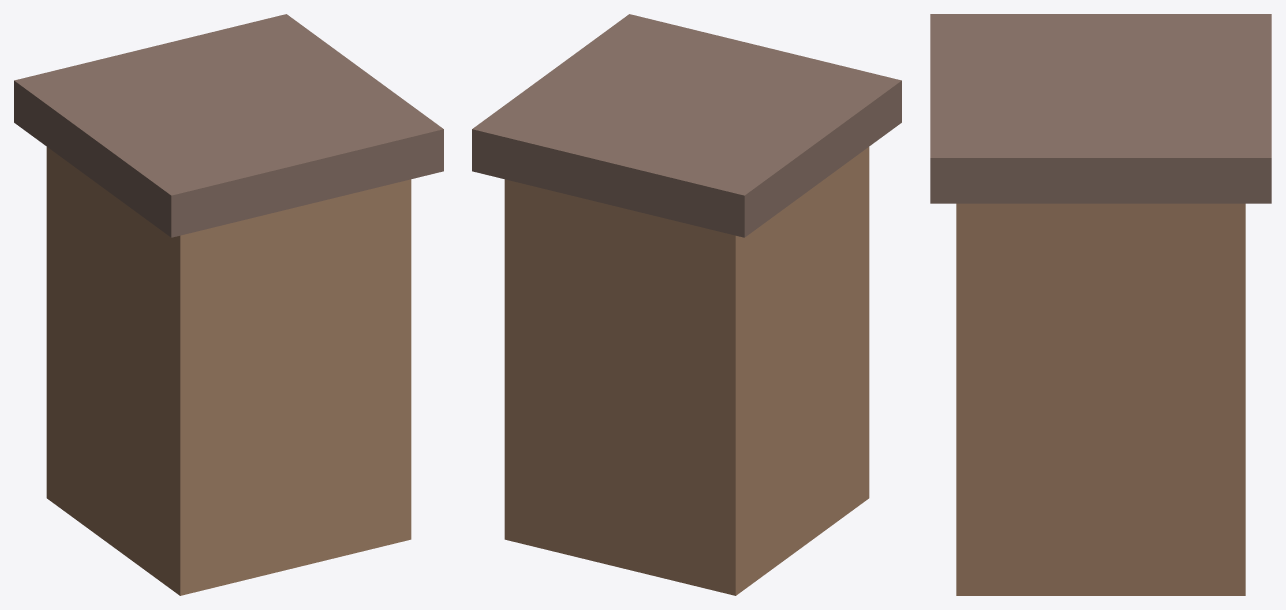
Rendered from wall_corner_wood.glb.
The picture shows the model from 3 angles, left to right: view 1: azimuth 30°, elevation 25°; view 2: azimuth 150°, elevation 25°; view 3: azimuth 270°, elevation 25°; orthographic projection. The views are drawn at different scales.
Visible parts, largest first — view 1: wood, wood_dark; view 2: wood, wood_dark; view 3: wood, wood_dark.
Boxes of the visible parts, x1,y1,x2,y2 form: wood: (46,147,411,595); wood_dark: (14,14,443,237); wood: (504,147,869,595); wood_dark: (472,14,901,237); wood: (956,203,1245,595); wood_dark: (930,14,1271,203).
Bounding box in the file's own units: 2.3 × 3.34 × 2.3.
